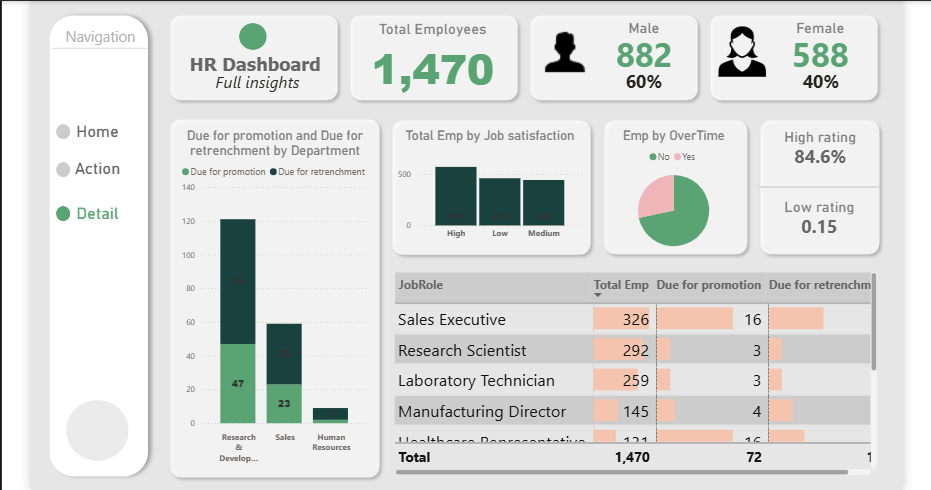

Layout of this report page (visuals, bound fields, positions):
{"tool":"powerbi","page":{"name":"Details","canvas":[1280,720],"ordinal":1},"visuals":[{"type":"shape","box":[16.5,9.6,166.5,699.2],"z":0},{"type":"shape","box":[195.4,12.4,264.3,143.1],"z":1000},{"type":"shape","box":[459.7,12.4,264.3,143.1],"z":2000},{"type":"shape","box":[724,12.4,264.3,143.1],"z":3000},{"type":"shape","box":[988.2,12.4,264.3,143.1],"z":4000},{"type":"shape","box":[195.2,164.4,325.9,544.6],"z":5000},{"type":"shape","box":[521.1,165.9,309.7,215.8],"z":6000},{"type":"shape","box":[833.6,166.7,228.3,215],"z":7000},{"type":"shape","box":[1063.1,166.7,193.3,215],"z":8000},{"type":"textbox","box":[209.7,71.2,238.7,51.4],"z":9000},{"type":"textbox","box":[36.9,33,130.5,51.4],"z":10000},{"type":"textbox","box":[209.7,97.6,251.9,55.4],"z":11000},{"type":"shape","box":[305.9,33,40.9,39.6],"z":12000},{"type":"card","title":"Total Employees","fields":{"Values":["All Measures.Total Emp"]},"box":[468,27.5,246.4,112.9],"z":13000},{"type":"card","title":"Male","fields":{"Values":["All Measures.Male"]},"box":[814.8,26.2,170.7,75.7],"z":14000},{"type":"card","fields":{"Values":["All Measures.Male %"]},"box":[834.1,90.8,132.1,55.1],"z":15000},{"type":"card","title":"Female","fields":{"Values":["All Measures.Female"]},"box":[1068.7,26.2,183.1,75.7],"z":16000},{"type":"card","fields":{"Values":["All Measures.Female %"]},"box":[1083.9,90.8,152.8,53.7],"z":17000},{"type":"image","box":[736.3,26.2,95,90.8],"z":18000},{"type":"image","box":[1004.7,33,79.8,84],"z":19000},{"type":"columnChart","fields":{"Category":["HR Analytics Data.Department"],"Y":["All Measures.Due for promotion","All Measures.Due for retirment"]},"box":[216.3,185.9,284.8,501.1],"z":20000},{"type":"tableEx","fields":{"Values":["HR Analytics Data.JobRole","All Measures.Total Emp","All Measures.Due for promotion","All Measures.Due for retirment"]},"box":[529.5,393.8,718.8,308.1],"z":21000},{"type":"columnChart","fields":{"Category":["HR Analytics Data.Job satisfaction"],"Y":["All Measures.Total Emp"]},"box":[532.8,186.4,281.8,173.2],"z":22000},{"type":"pieChart","title":"Emp by OverTime","fields":{"Category":["HR Analytics Data.OverTime"],"Y":["All Measures.Total Emp"]},"box":[820.3,186,248.9,192.1],"z":23000},{"type":"card","title":"High rating","fields":{"Values":["All Measures.% High emp rating"]},"box":[1066.7,186,186,61.6],"z":24000},{"type":"card","title":"Low rating","fields":{"Values":["All Measures.% Low emp rating"]},"box":[1065.5,289.9,186,61.6],"z":25000},{"type":"shape","box":[1070.1,265.7,176.1,14.7],"z":26000},{"type":"shape","box":[36.9,300.7,21.1,22.4],"z":27000},{"type":"actionButton","title":"Detail","box":[27.7,298,139.8,39.6],"z":28000},{"type":"shape","box":[36.9,236,21.1,22.4],"z":29000},{"type":"actionButton","title":"Action","box":[27.7,232.1,139.8,58],"z":30000},{"type":"shape","box":[36.9,180.7,21.1,22.4],"z":31000},{"type":"actionButton","title":"Home","box":[27.7,178,139.8,54.1],"z":32000},{"type":"shape","box":[51.4,586.8,92.3,89.7],"z":33000},{"type":"shape","box":[30.2,61.6,140.1,15.7],"z":34000}]}

Visuals, with their boxes on the page's 1280x720 design canvas (x1, y1, x2, y2). These are canvas units, not pixel positions in the 931x490 screenshot, which may show the page scaled, cropped or inside an application window:
shape: 16 10 183 709
shape: 195 12 460 156
shape: 460 12 724 156
shape: 724 12 988 156
shape: 988 12 1252 156
shape: 195 164 521 709
shape: 521 166 831 382
shape: 834 167 1062 382
shape: 1063 167 1256 382
textbox: 210 71 448 123
textbox: 37 33 167 84
textbox: 210 98 462 153
shape: 306 33 347 73
"Total Employees" card: 468 28 714 140
"Male" card: 815 26 986 102
card - All Measures.Male %: 834 91 966 146
"Female" card: 1069 26 1252 102
card - All Measures.Female %: 1084 91 1237 144
image: 736 26 831 117
image: 1005 33 1084 117
columnChart - HR Analytics Data.Department x All Measures.Due for promotion: 216 186 501 687
tableEx - HR Analytics Data.JobRole x All Measures.Total Emp: 530 394 1248 702
columnChart - HR Analytics Data.Job satisfaction x All Measures.Total Emp: 533 186 815 360
"Emp by OverTime" pieChart: 820 186 1069 378
"High rating" card: 1067 186 1253 248
"Low rating" card: 1066 290 1252 352
shape: 1070 266 1246 280
shape: 37 301 58 323
"Detail" actionButton: 28 298 168 338
shape: 37 236 58 258
"Action" actionButton: 28 232 168 290
shape: 37 181 58 203
"Home" actionButton: 28 178 168 232
shape: 51 587 144 676
shape: 30 62 170 77
